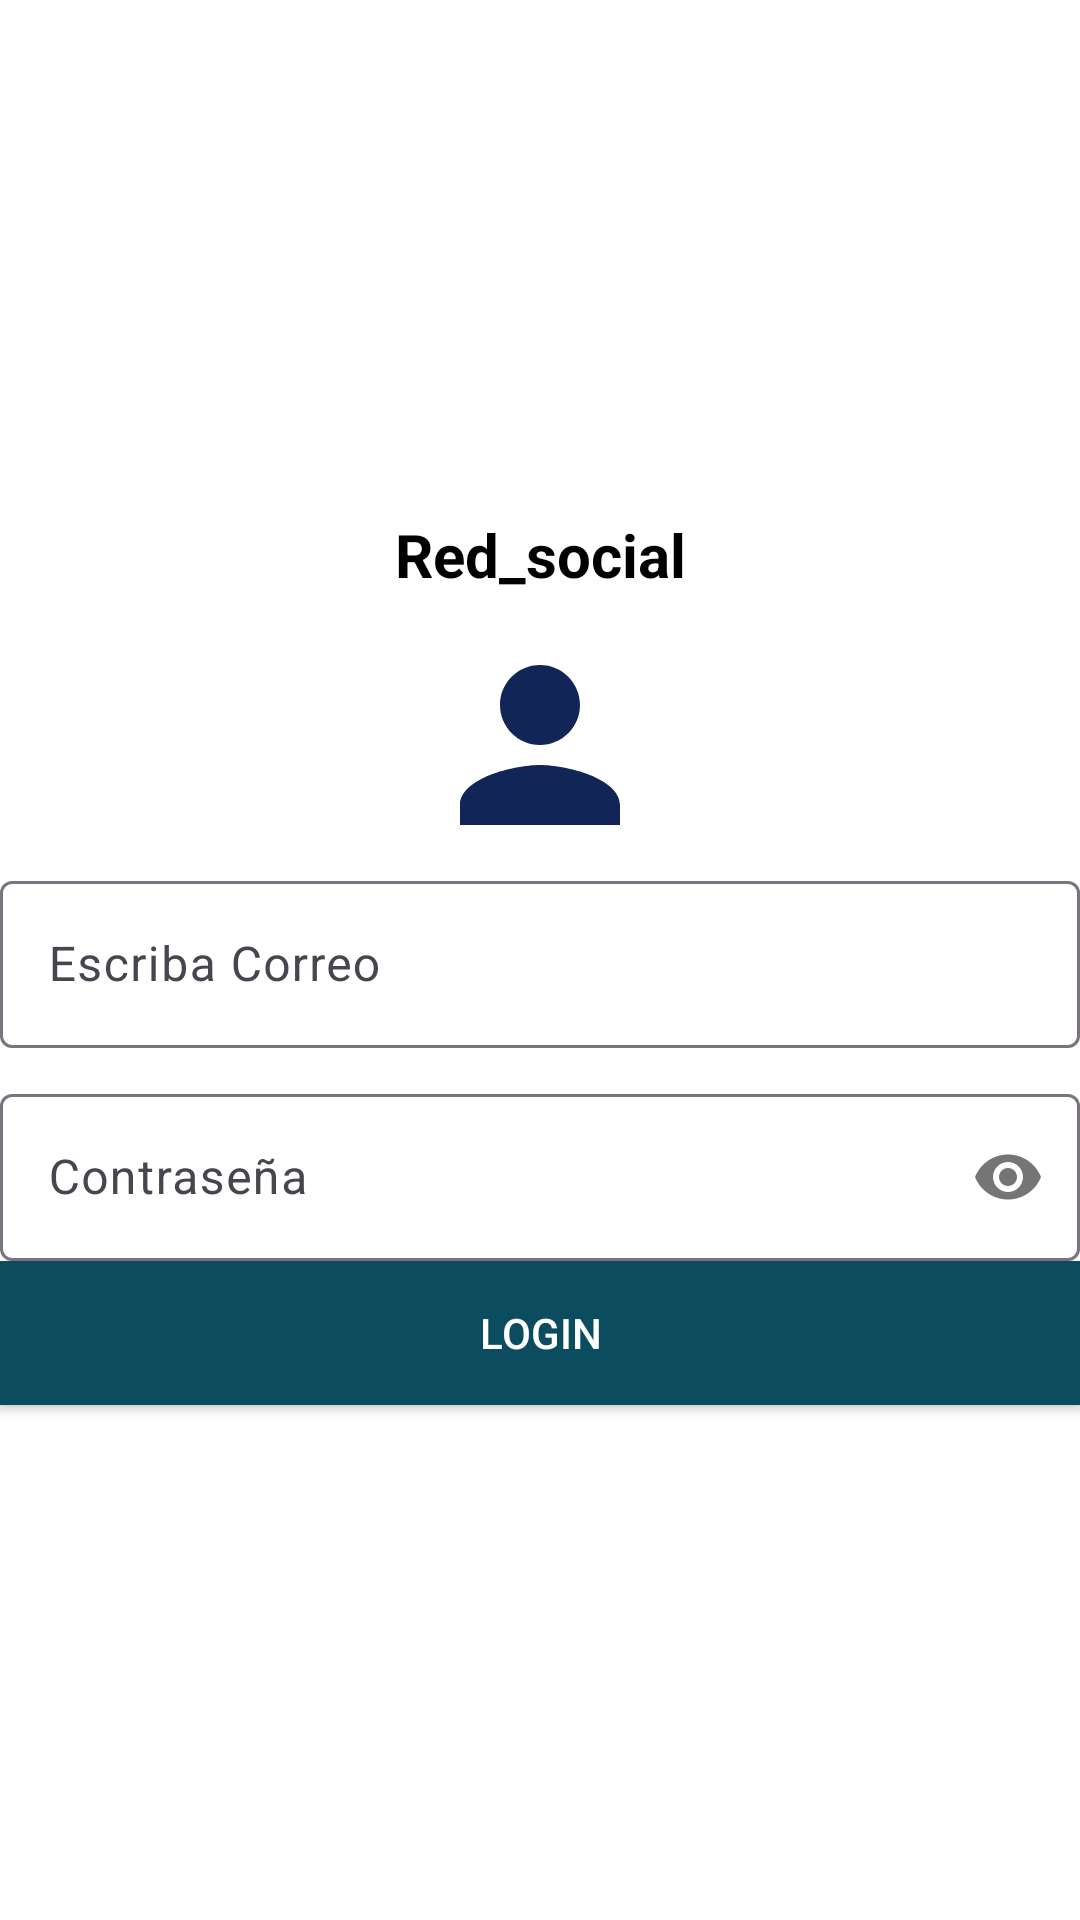

Screen size 1080 x 1920. Icon name, then its box in pixels as Rect(x1, y1, x2, y2):
person: Rect(460, 665, 620, 825)
